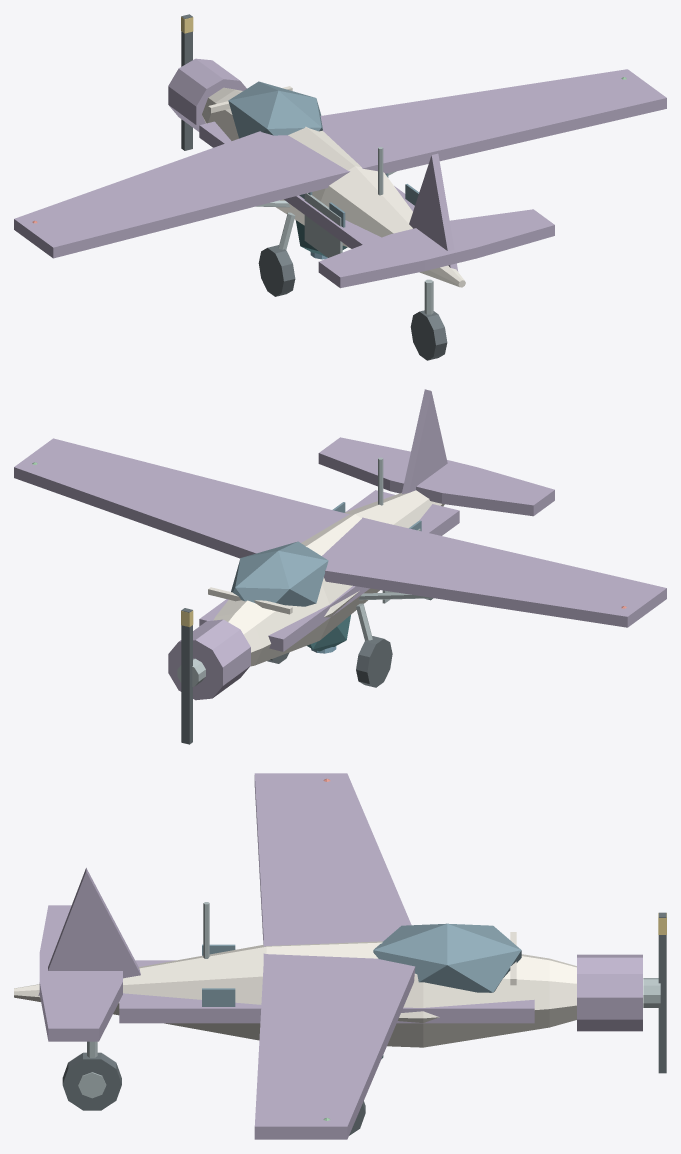
The model's file is survey_scout.glb.
3 views of the same model, one above another, from view 1: azimuth 30°, elevation 25°; view 2: azimuth 150°, elevation 25°; view 3: azimuth 270°, elevation 25° (orthographic). The views are drawn at different scales.
Parts seen in each view (by area): view 1: survey_scout__main_wings, survey_scout__tailplane, survey_scout__faceted_fuselage, survey_scout__cockpit_canopy, survey_scout__engine_nose, survey_scout__vertical_tail, survey_scout__signature_stripe, survey_scout__wheel, survey_scout__wheel.002, survey_scout__cargo_door, survey_scout__Propeller_blades; view 2: survey_scout__main_wings, survey_scout__tailplane, survey_scout__faceted_fuselage, survey_scout__cockpit_canopy, survey_scout__engine_nose, survey_scout__signature_stripe, survey_scout__vertical_tail, survey_scout__wheel, survey_scout__Propeller_blades, survey_scout__camera_pod, survey_scout__windshield_frame; view 3: survey_scout__main_wings, survey_scout__faceted_fuselage, survey_scout__cockpit_canopy, survey_scout__tailplane, survey_scout__signature_stripe, survey_scout__engine_nose, survey_scout__vertical_tail, survey_scout__wheel.002, survey_scout__Propeller_blades, survey_scout__cabin_window.001, survey_scout__wheel_hub.002.
Part boxes in pixels (x1,y1,x2,y2): survey_scout__main_wings: (14, 69, 666, 258); survey_scout__tailplane: (318, 209, 554, 288); survey_scout__faceted_fuselage: (202, 87, 465, 287); survey_scout__cockpit_canopy: (228, 81, 322, 138); survey_scout__engine_nose: (168, 58, 246, 131); survey_scout__vertical_tail: (409, 153, 458, 271); survey_scout__signature_stripe: (199, 121, 414, 248); survey_scout__wheel: (258, 245, 295, 296); survey_scout__wheel.002: (410, 310, 447, 360); survey_scout__cargo_door: (304, 193, 342, 257); survey_scout__Propeller_blades: (181, 14, 192, 150); survey_scout__main_wings: (14, 438, 666, 627); survey_scout__tailplane: (318, 437, 554, 516); survey_scout__faceted_fuselage: (213, 490, 444, 666); survey_scout__cockpit_canopy: (231, 541, 328, 606); survey_scout__engine_nose: (168, 619, 250, 700); survey_scout__signature_stripe: (199, 490, 459, 651); survey_scout__vertical_tail: (401, 389, 447, 494); survey_scout__wheel: (356, 636, 392, 687); survey_scout__Propeller_blades: (181, 608, 192, 744); survey_scout__camera_pod: (307, 615, 350, 651); survey_scout__windshield_frame: (208, 587, 292, 614); survey_scout__main_wings: (254, 773, 415, 1139); survey_scout__faceted_fuselage: (14, 941, 576, 1047); survey_scout__cockpit_canopy: (373, 923, 521, 992); survey_scout__tailplane: (39, 905, 122, 1041); survey_scout__signature_stripe: (119, 960, 534, 1023); survey_scout__engine_nose: (577, 954, 642, 1031); survey_scout__vertical_tail: (38, 868, 140, 995); survey_scout__wheel.002: (62, 1052, 121, 1110); survey_scout__Propeller_blades: (658, 912, 666, 1073); survey_scout__cabin_window.001: (202, 988, 235, 1006); survey_scout__wheel_hub.002: (78, 1072, 106, 1098).
Size of the model in its own units: 11.8 by 3.73 by 9.22.
